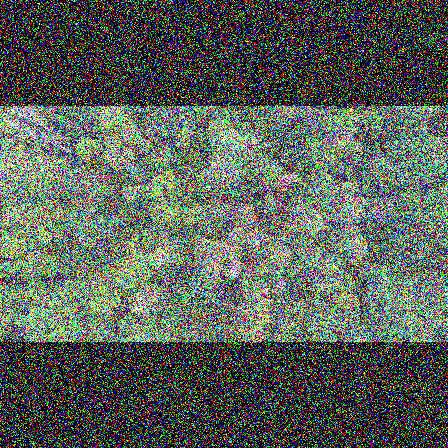Dead: (10, 120, 74, 154), (14, 108, 72, 144), (359, 193, 397, 231), (273, 167, 299, 190), (223, 259, 245, 281)
